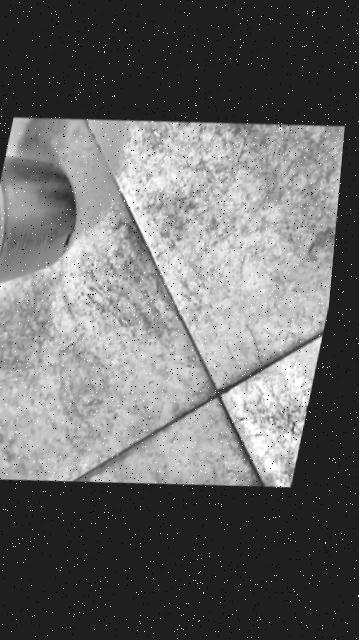pot: (0, 133, 90, 316)
